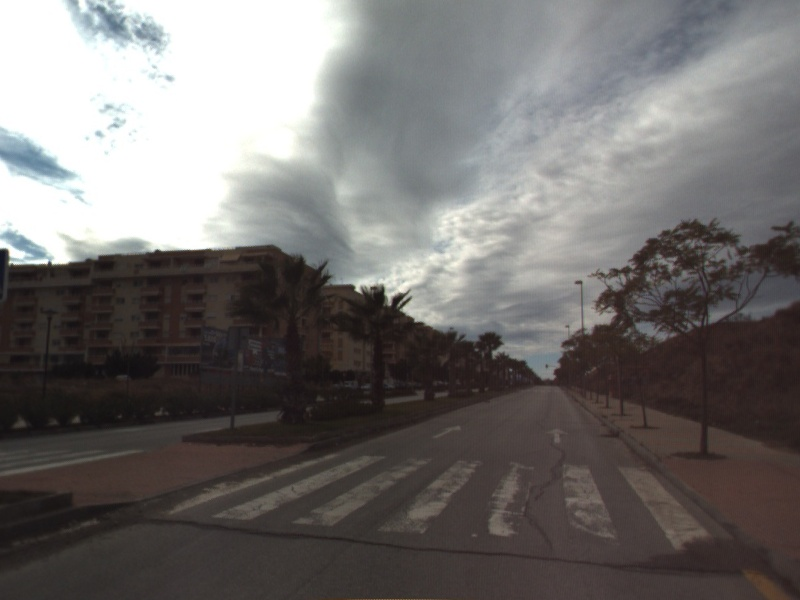STRAIGHT: (430, 423, 463, 440), (544, 426, 571, 445)
